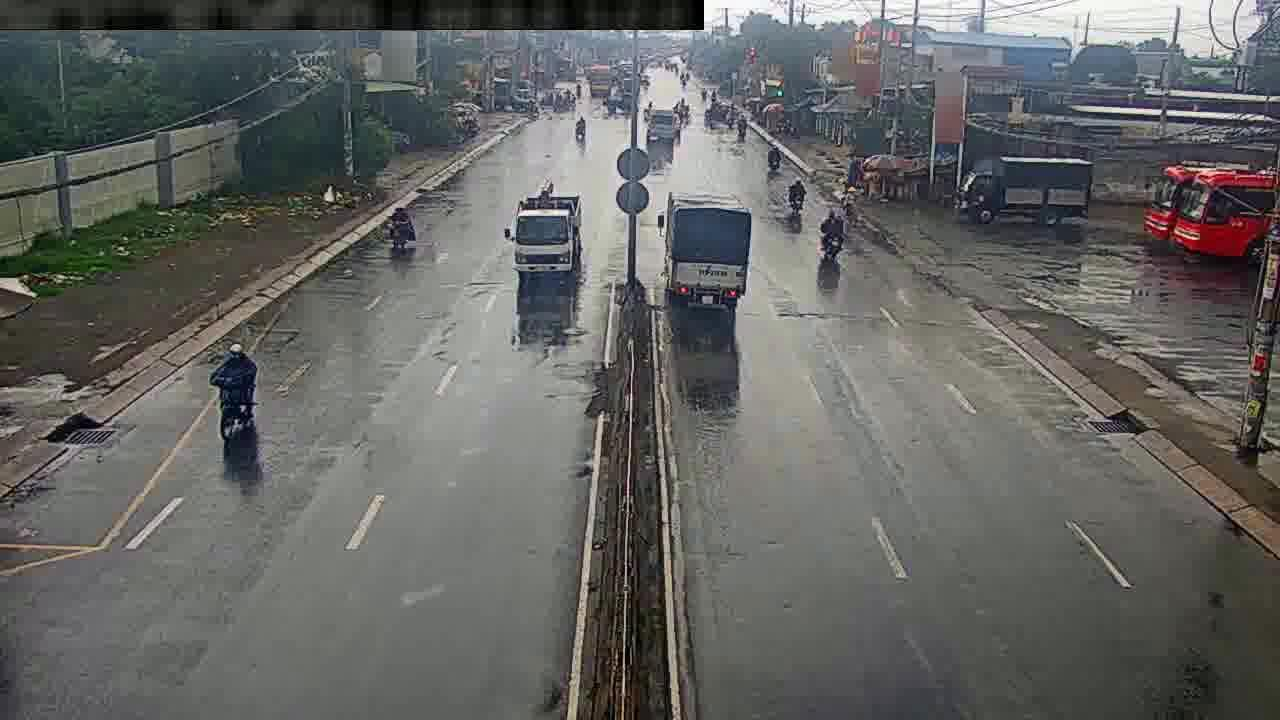14: (643, 107, 681, 147)
8: (660, 191, 751, 304), (518, 197, 575, 271)
container: (514, 200, 578, 280)
motorbike: (219, 343, 262, 444), (389, 203, 415, 261), (822, 204, 845, 264), (786, 170, 804, 217), (574, 107, 591, 142), (765, 136, 780, 174)
